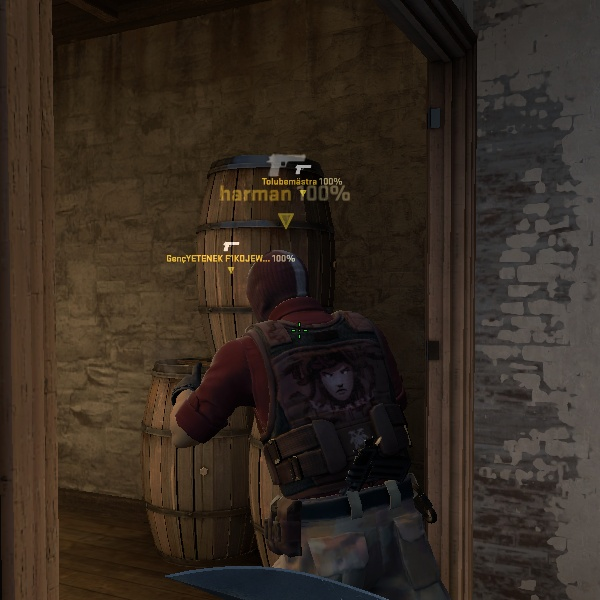t_head: (234, 233, 334, 364)
